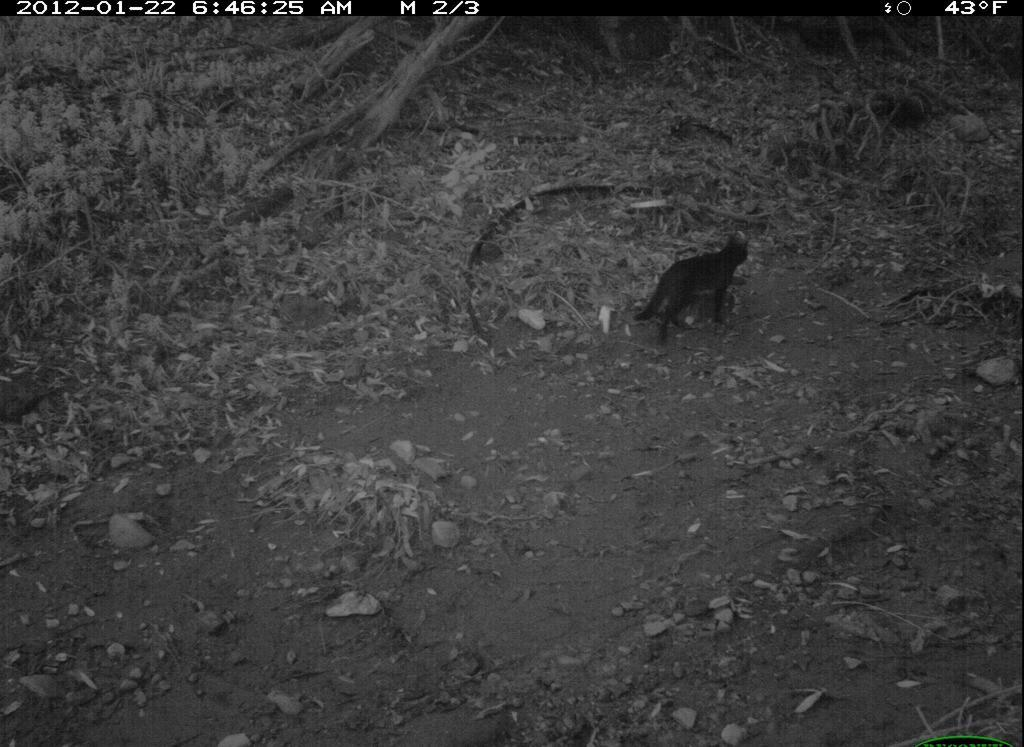cat: (634, 231, 760, 340)
